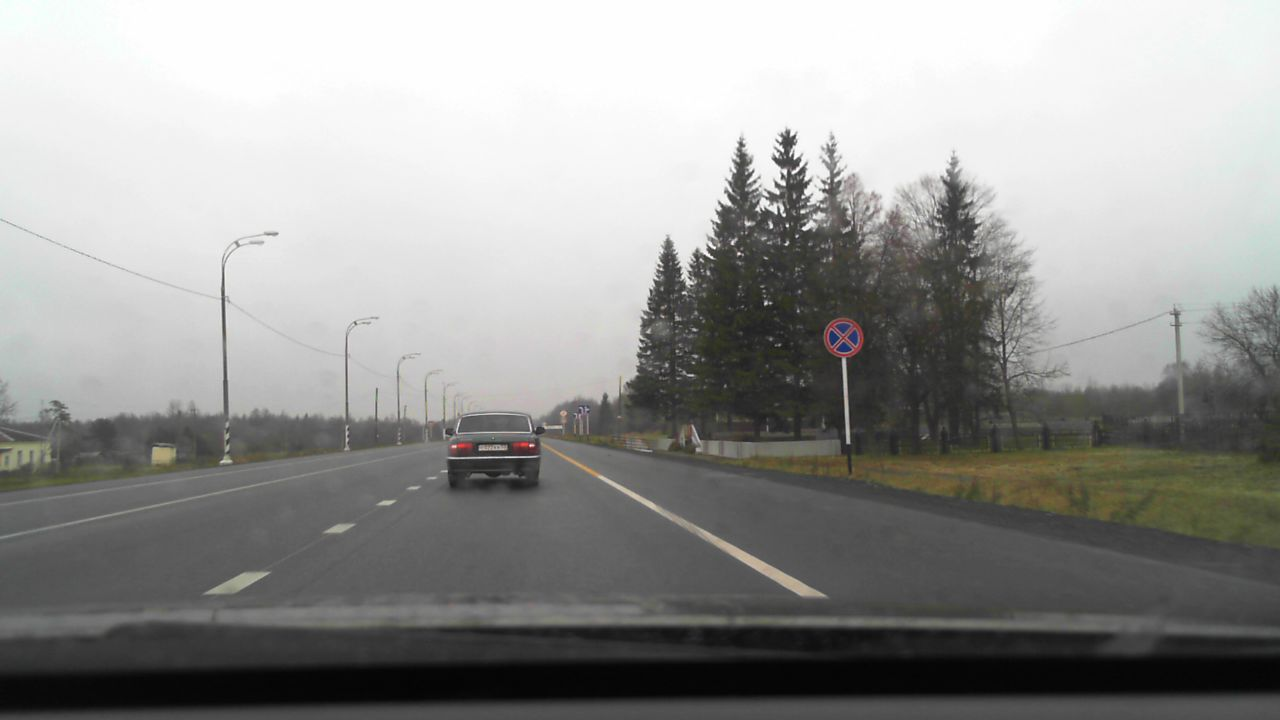No Parking: (823, 317, 863, 358)
